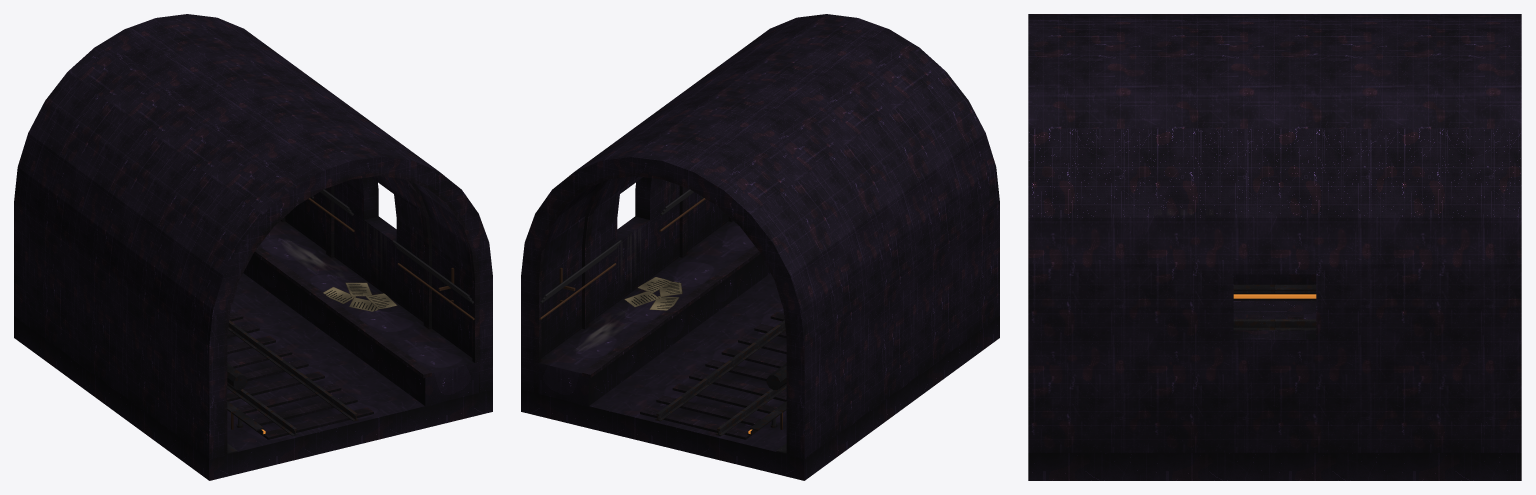
The model's file is tunnel_vent.glb.
3 renders of one model, left to right at view 1: azimuth 30°, elevation 25°; view 2: azimuth 150°, elevation 25°; view 3: azimuth 270°, elevation 25°, orthographic. The views are drawn at different scales.
Visible parts, largest first — view 1: body, decals; view 2: body, decals; view 3: body.
Part boxes in pixels (box(x1,y1,x2,y2)): body: box(14, 14, 492, 480); decals: box(284, 225, 397, 311); body: box(521, 14, 999, 480); decals: box(580, 231, 682, 349); body: box(1028, 14, 1521, 480).
Size of what is drawn, in the model's own units: 6.7 by 6.45 by 8.
16 materials, 12 textured.
